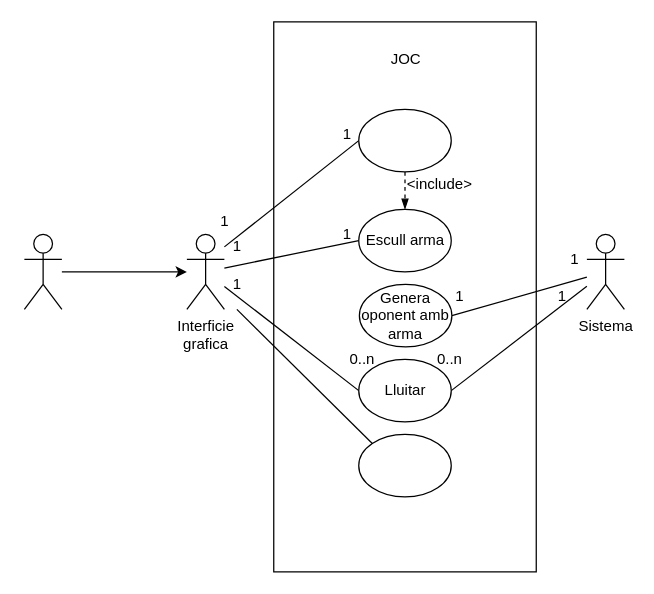
Some shapes in this 654 by 594 pixel diagram are drawn without their labels. Here are the shapes that lost their labels. From the top down, the centre of each, then its label:
At [404,140]: "Escull personatje".
At [42,271]: "Usuari".
At [404,465]: "Mirar Ranking".
